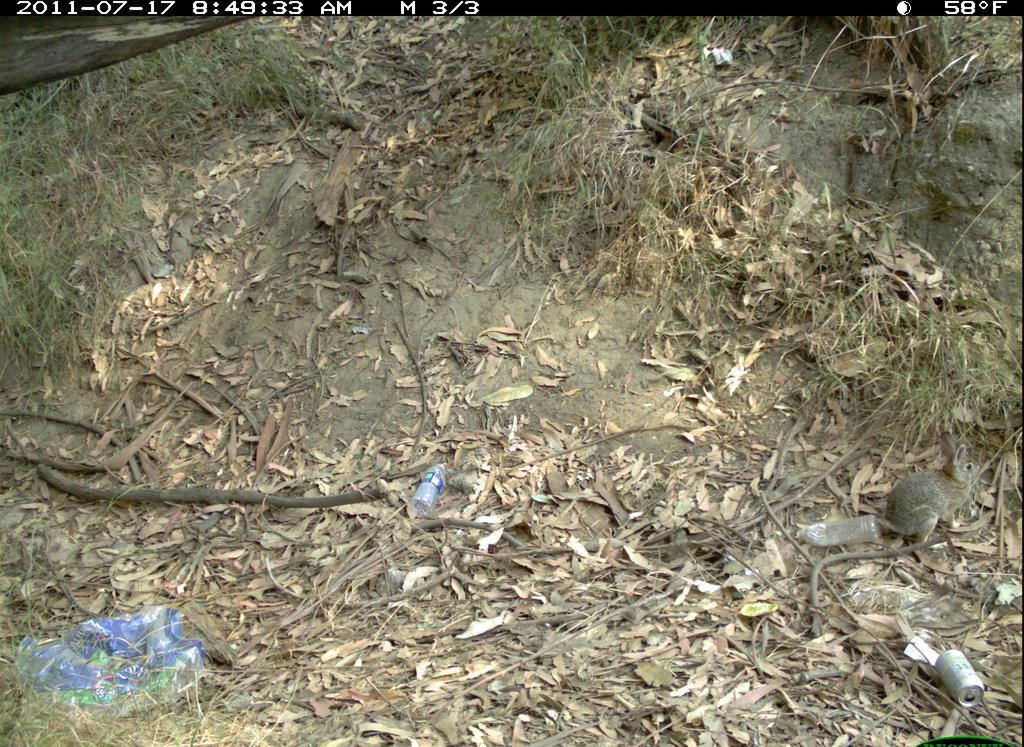rabbit: (877, 434, 987, 550)
